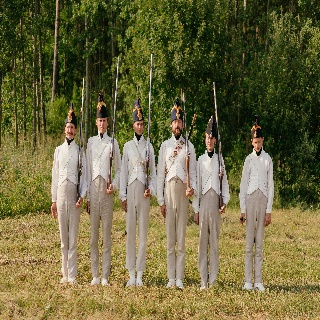rifle: (210, 81, 231, 210), (141, 53, 154, 191), (108, 55, 121, 189), (180, 88, 195, 190), (76, 77, 85, 201)
